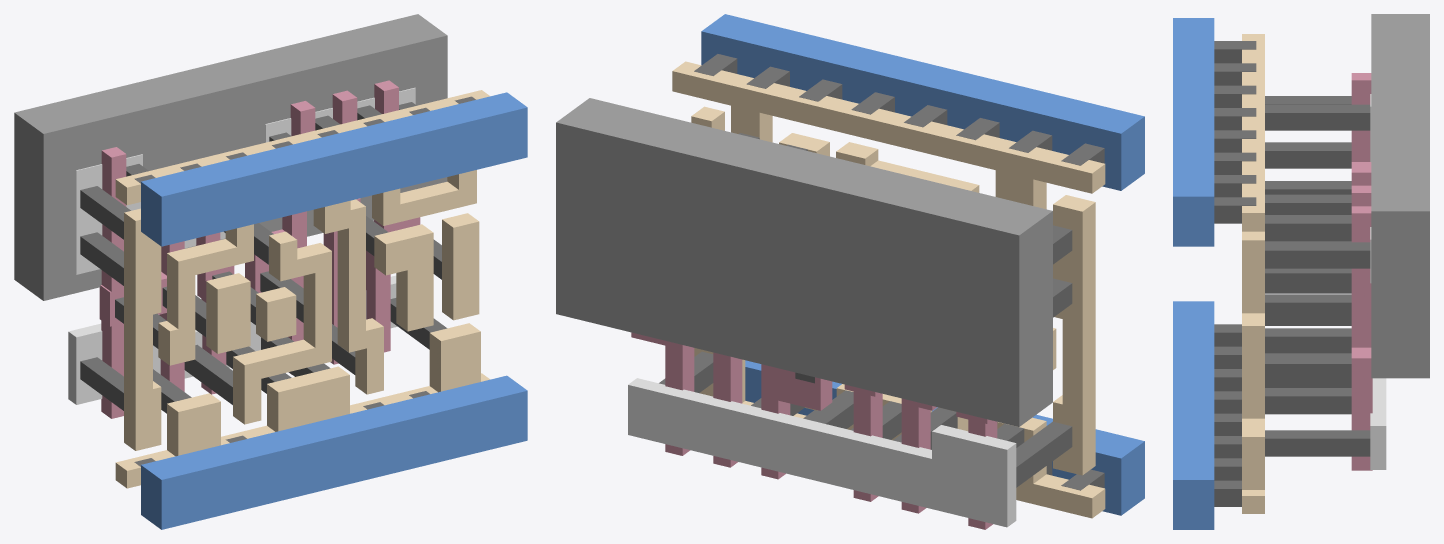
Rendered from sky130_fd_sc_hd__a2bb2o_1.gds.gltf.
The picture shows the model from 3 angles, left to right: view 1: azimuth 30°, elevation 25°; view 2: azimuth 150°, elevation 25°; view 3: azimuth 270°, elevation 25°; orthographic projection. The views are drawn at different scales.
Visible parts, largest first — view 1: sky130_fd_sc_hd__a2bb2o_1_li1, sky130_fd_sc_hd__a2bb2o_1_met1, sky130_fd_sc_hd__a2bb2o_1_nwell, sky130_fd_sc_hd__a2bb2o_1_licon, sky130_fd_sc_hd__a2bb2o_1_poly, sky130_fd_sc_hd__a2bb2o_1_diff, sky130_fd_sc_hd__a2bb2o_1_mcon; view 2: sky130_fd_sc_hd__a2bb2o_1_nwell, sky130_fd_sc_hd__a2bb2o_1_li1, sky130_fd_sc_hd__a2bb2o_1_met1, sky130_fd_sc_hd__a2bb2o_1_diff, sky130_fd_sc_hd__a2bb2o_1_poly, sky130_fd_sc_hd__a2bb2o_1_licon, sky130_fd_sc_hd__a2bb2o_1_mcon; view 3: sky130_fd_sc_hd__a2bb2o_1_licon, sky130_fd_sc_hd__a2bb2o_1_nwell, sky130_fd_sc_hd__a2bb2o_1_met1, sky130_fd_sc_hd__a2bb2o_1_mcon, sky130_fd_sc_hd__a2bb2o_1_li1, sky130_fd_sc_hd__a2bb2o_1_poly, sky130_fd_sc_hd__a2bb2o_1_diff.
Boxes of the visible parts, <box> form: sky130_fd_sc_hd__a2bb2o_1_li1: <box>115,90,489,488</box>; sky130_fd_sc_hd__a2bb2o_1_met1: <box>141,92,527,529</box>; sky130_fd_sc_hd__a2bb2o_1_nwell: <box>14,14,447,300</box>; sky130_fd_sc_hd__a2bb2o_1_licon: <box>80,102,447,413</box>; sky130_fd_sc_hd__a2bb2o_1_poly: <box>99,80,420,418</box>; sky130_fd_sc_hd__a2bb2o_1_diff: <box>68,87,415,404</box>; sky130_fd_sc_hd__a2bb2o_1_mcon: <box>134,96,475,466</box>; sky130_fd_sc_hd__a2bb2o_1_nwell: <box>556,98,1052,426</box>; sky130_fd_sc_hd__a2bb2o_1_li1: <box>672,61,1105,518</box>; sky130_fd_sc_hd__a2bb2o_1_met1: <box>701,14,1144,515</box>; sky130_fd_sc_hd__a2bb2o_1_diff: <box>628,378,1016,527</box>; sky130_fd_sc_hd__a2bb2o_1_poly: <box>631,332,997,529</box>; sky130_fd_sc_hd__a2bb2o_1_licon: <box>659,133,1072,487</box>; sky130_fd_sc_hd__a2bb2o_1_mcon: <box>694,54,1104,490</box>; sky130_fd_sc_hd__a2bb2o_1_licon: <box>1265,96,1370,456</box>; sky130_fd_sc_hd__a2bb2o_1_nwell: <box>1371,14,1429,378</box>; sky130_fd_sc_hd__a2bb2o_1_met1: <box>1173,18,1214,529</box>; sky130_fd_sc_hd__a2bb2o_1_mcon: <box>1214,41,1256,506</box>; sky130_fd_sc_hd__a2bb2o_1_li1: <box>1242,34,1264,513</box>; sky130_fd_sc_hd__a2bb2o_1_poly: <box>1351,73,1372,470</box>; sky130_fd_sc_hd__a2bb2o_1_diff: <box>1370,94,1386,469</box>.
Bounding box in the file's own units: 4.06 × 3.2 × 2.24.
